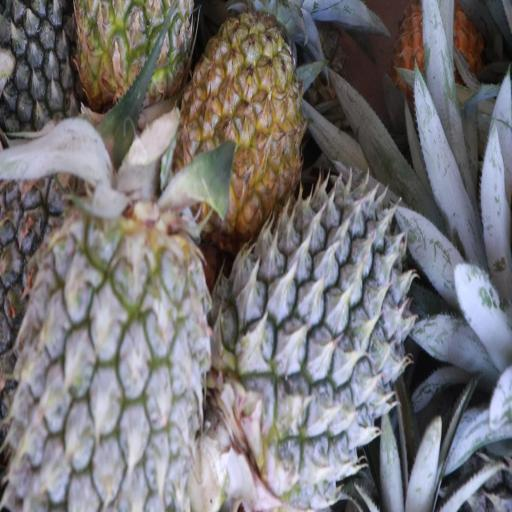Pineapple - v8 v1: (180, 16, 298, 217)
